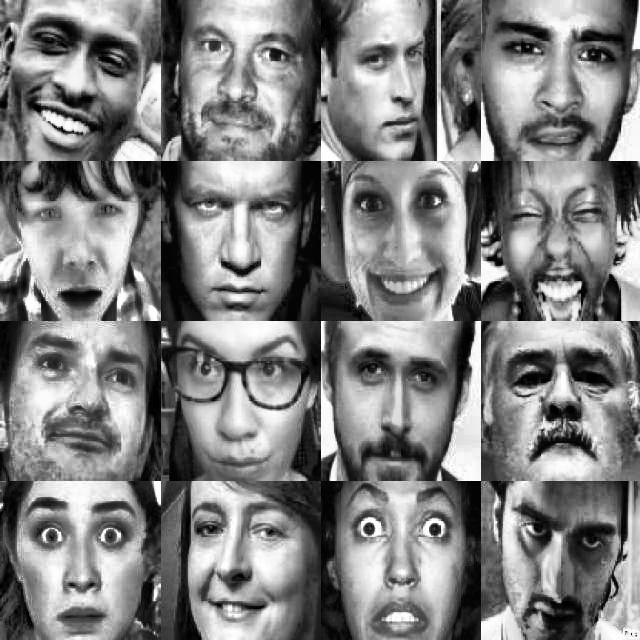angry: (510, 499, 621, 623), (190, 189, 296, 307)
fear: (20, 492, 143, 634), (341, 492, 458, 640), (26, 182, 130, 300)
happy: (25, 12, 141, 148), (190, 500, 304, 638), (181, 335, 303, 463), (504, 181, 618, 317), (348, 171, 460, 309), (192, 18, 300, 149), (504, 15, 608, 147)
neutral: (507, 351, 629, 468), (21, 338, 141, 454), (352, 348, 456, 462), (348, 26, 440, 149)
